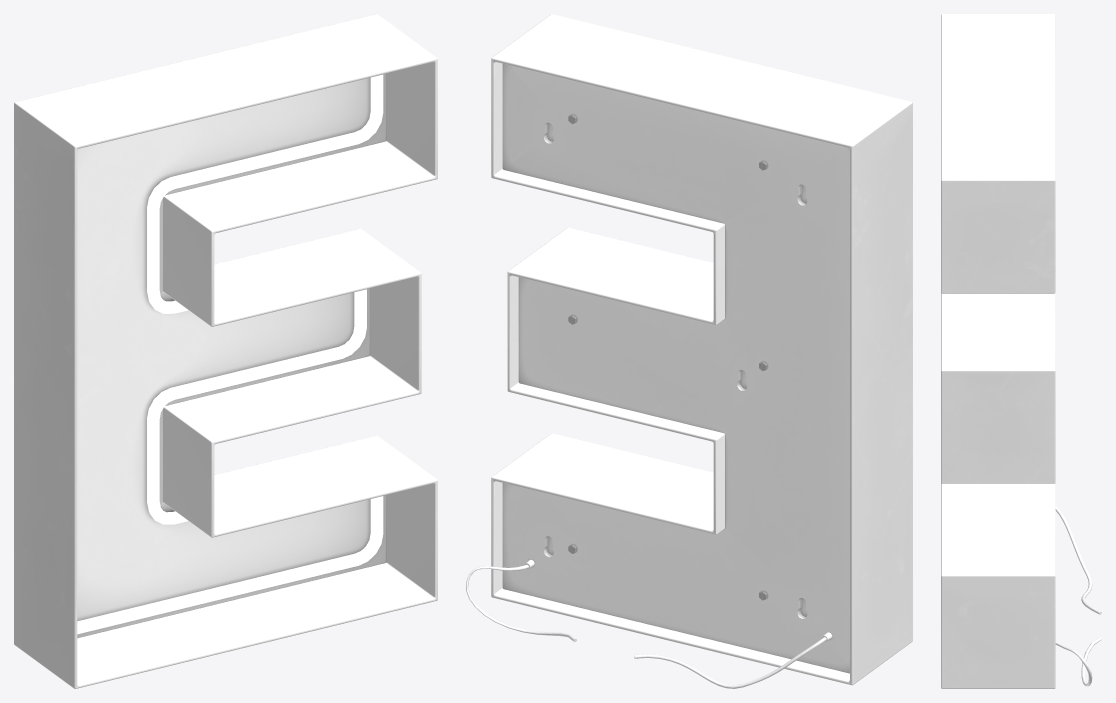
Rendered from E_Letter_neon_colorchange.glb.
3 renders of one model, left to right at view 1: azimuth 30°, elevation 25°; view 2: azimuth 150°, elevation 25°; view 3: azimuth 270°, elevation 25°, orthographic. The views are drawn at different scales.
Visible parts, largest first — view 1: E_letter_neon, E_neon; view 2: E_letter_neon; view 3: E_letter_neon.
Part boxes in pixels (x1,y1,x2,y2): E_letter_neon: (14,14,437,688); E_neon: (77,74,383,634); E_letter_neon: (466,14,912,688); E_letter_neon: (941,14,1101,688).
Size of the model in its own units: 0.6596 by 0.9474 by 0.2639.
2 materials, 1 textured.
